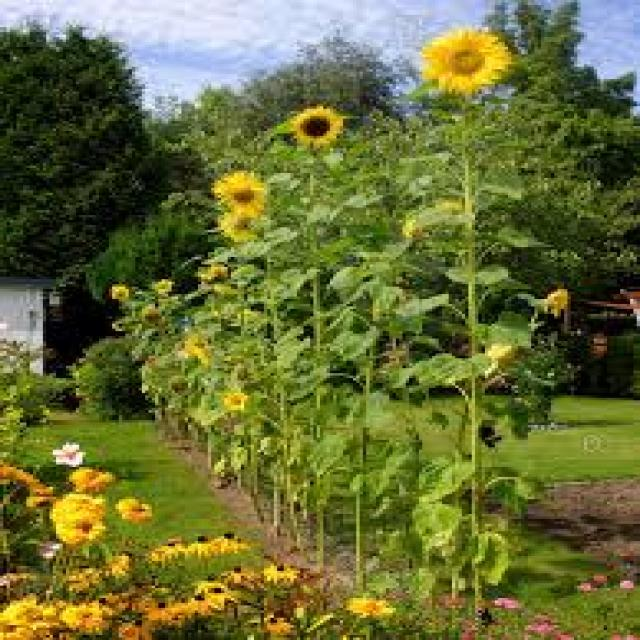sunflower: (418, 20, 519, 104), (279, 99, 352, 155), (210, 167, 272, 219), (217, 206, 269, 248), (539, 282, 572, 318), (484, 341, 516, 372), (187, 335, 220, 360), (225, 392, 251, 419), (202, 263, 233, 285), (151, 278, 183, 296), (110, 282, 131, 307)
